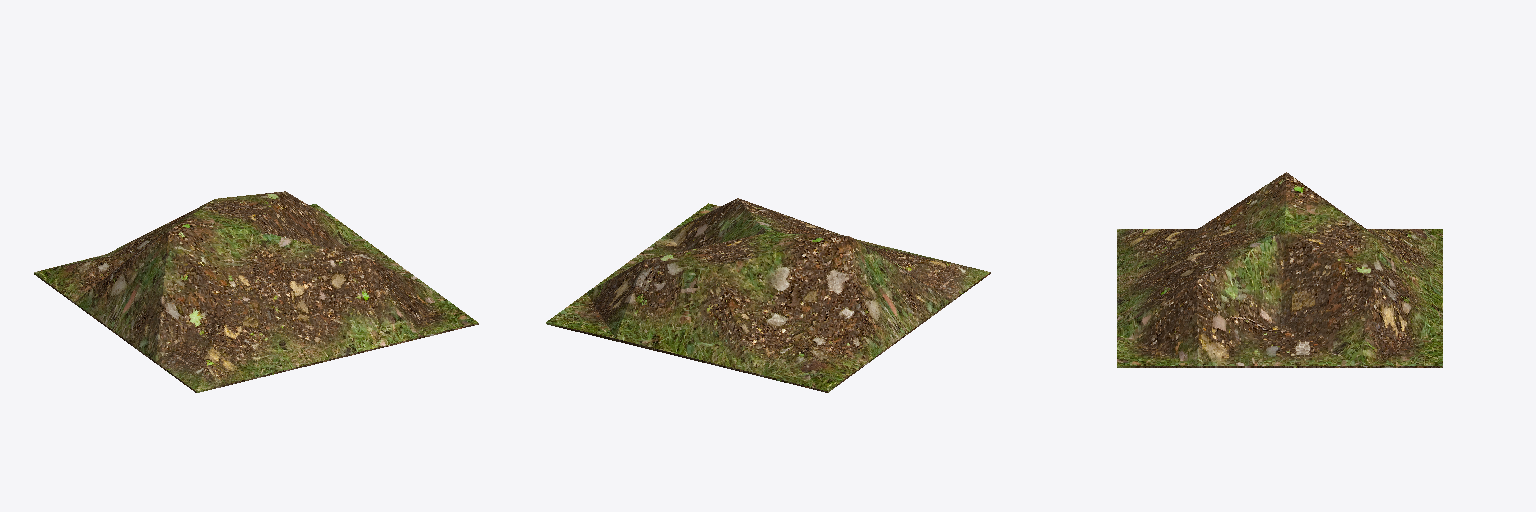
The picture shows the model from 3 angles: view 1: azimuth 30°, elevation 25°; view 2: azimuth 150°, elevation 25°; view 3: azimuth 270°, elevation 25°; orthographic projection.
Visible parts, largest first — view 1: land; view 2: land; view 3: land.
Part boxes in pixels (left/top/right/bottom): land: left=34, top=191, right=478, bottom=392; land: left=546, top=198, right=990, bottom=392; land: left=1117, top=172, right=1442, bottom=367.
Bounding box in the file's own units: 2 × 0.5846 × 2.
Materials: 1 (1 with a texture image).